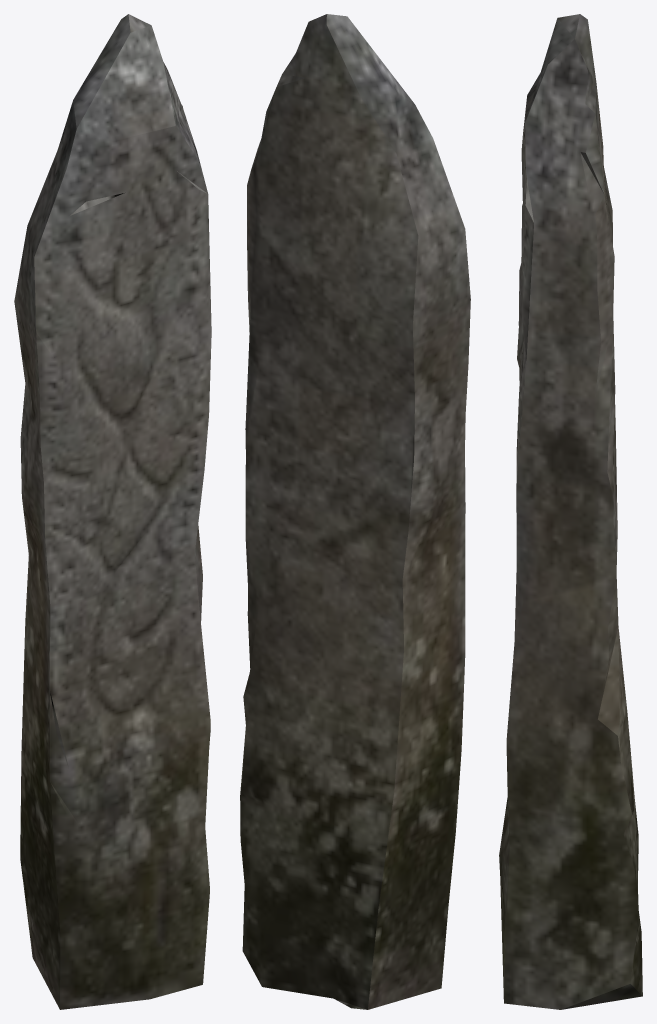
The model's file is stone-c-lod1.glb.
3 views of the same model, side by side, from view 1: azimuth 30°, elevation 25°; view 2: azimuth 150°, elevation 25°; view 3: azimuth 270°, elevation 25° (orthographic).
Visible parts, largest first — view 1: stone-c-lod1; view 2: stone-c-lod1; view 3: stone-c-lod1.
Boxes of the visible parts, bbox=[...] form: stone-c-lod1: bbox=[14, 14, 211, 1009]; stone-c-lod1: bbox=[240, 14, 470, 1009]; stone-c-lod1: bbox=[499, 14, 642, 1009].
Size of the model in its own units: 0.7183 by 3.5 by 0.4669.
1 material, 1 textured.
